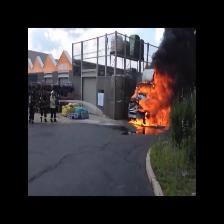fire: (138, 73, 173, 132)
smoke: (158, 28, 197, 74)
